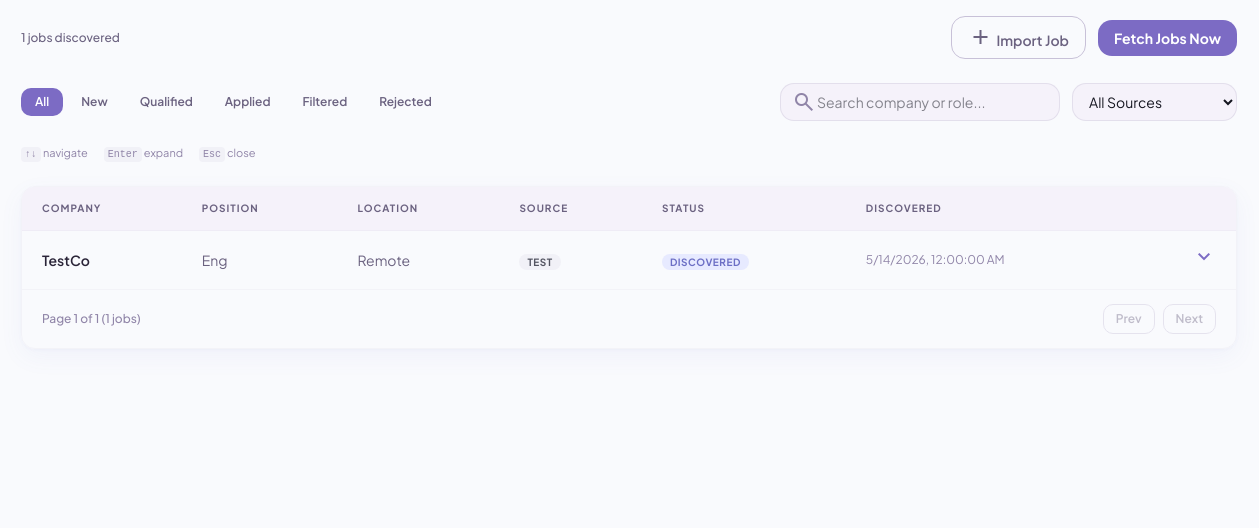
TailoredResumeCell NO_IMPROVEMENT verdict copy › renders the tailor-bailed copy when review_reason is 'tailor_bailed'
Click the text "TestCo" at (66, 260), box x1=22 y1=230 x2=182 y2=289
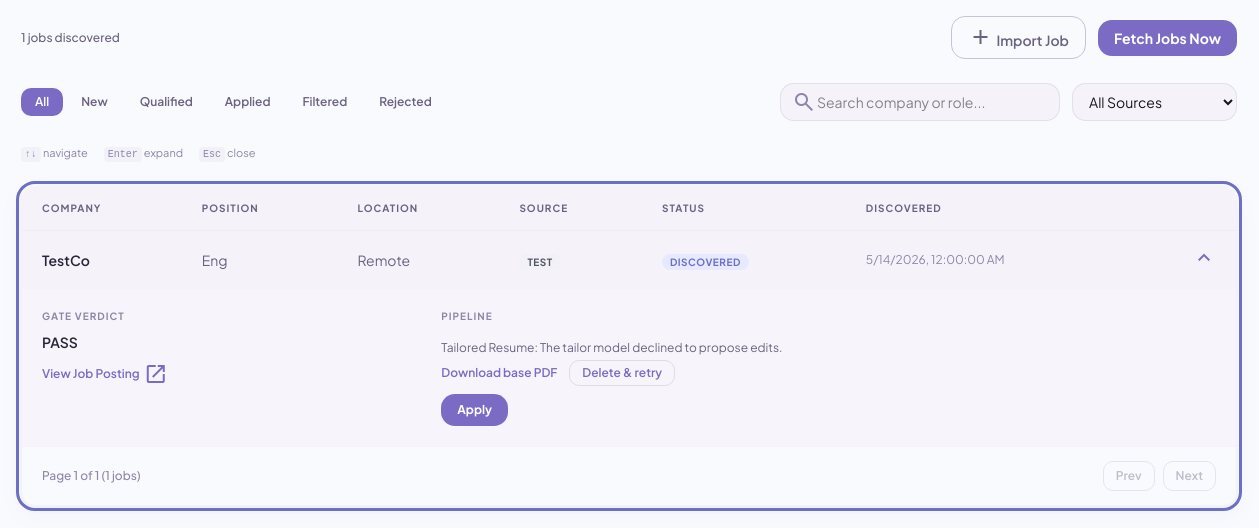
Expected: the text "Tailored Resume: The tailor model declined to propose edits." is shown, x1=441 y1=340 x2=782 y2=355
